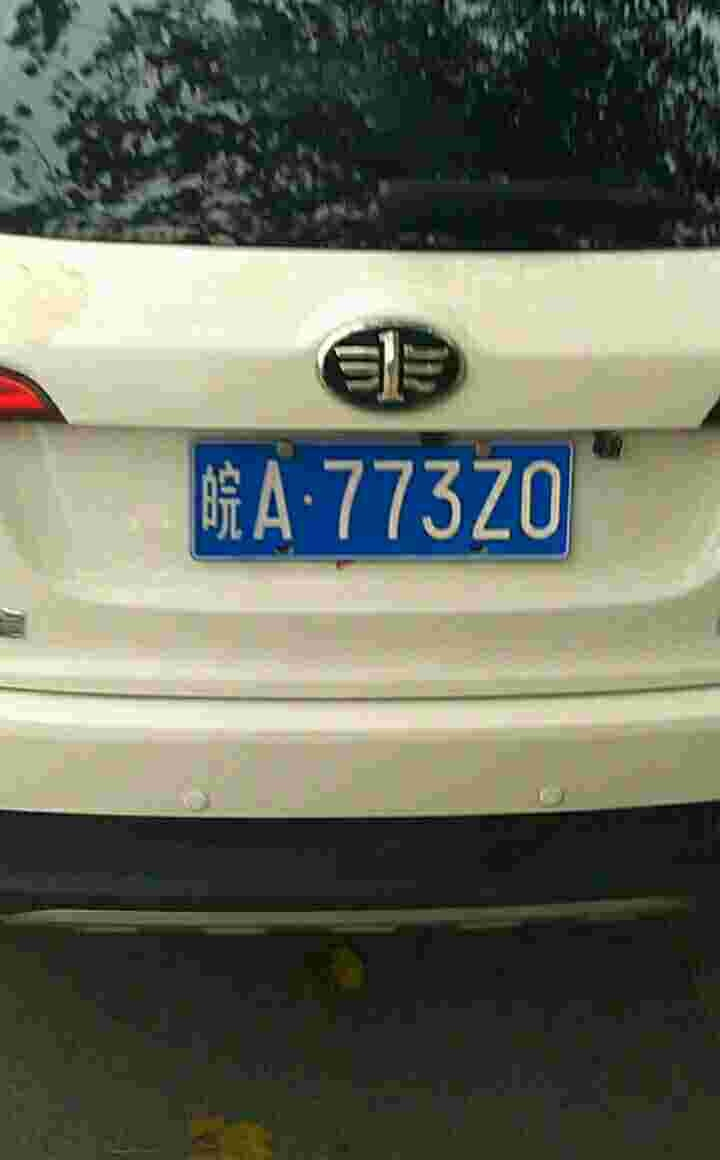car_blue: (186, 433, 577, 568)
